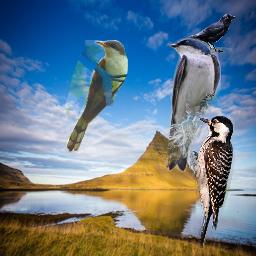Crow: (186, 14, 236, 53)
Cuckoo: (66, 40, 128, 153)
Swallow: (163, 37, 221, 172)
Woodpecker: (190, 112, 235, 252)
